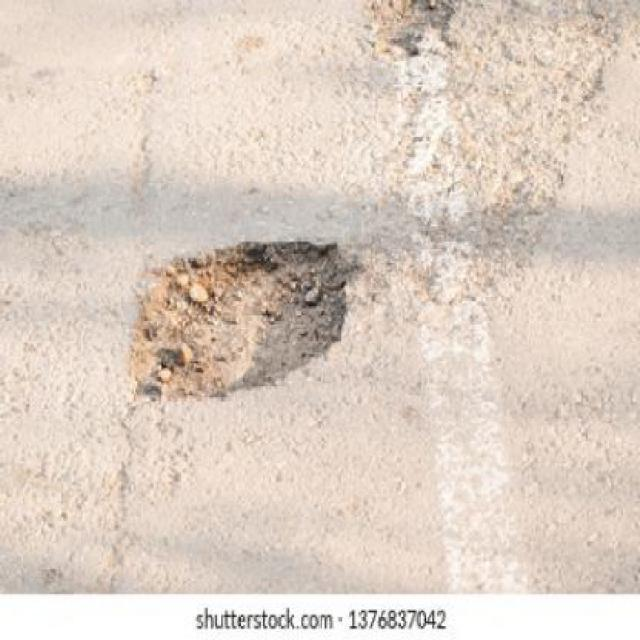Pothole: (131, 241, 356, 401)
